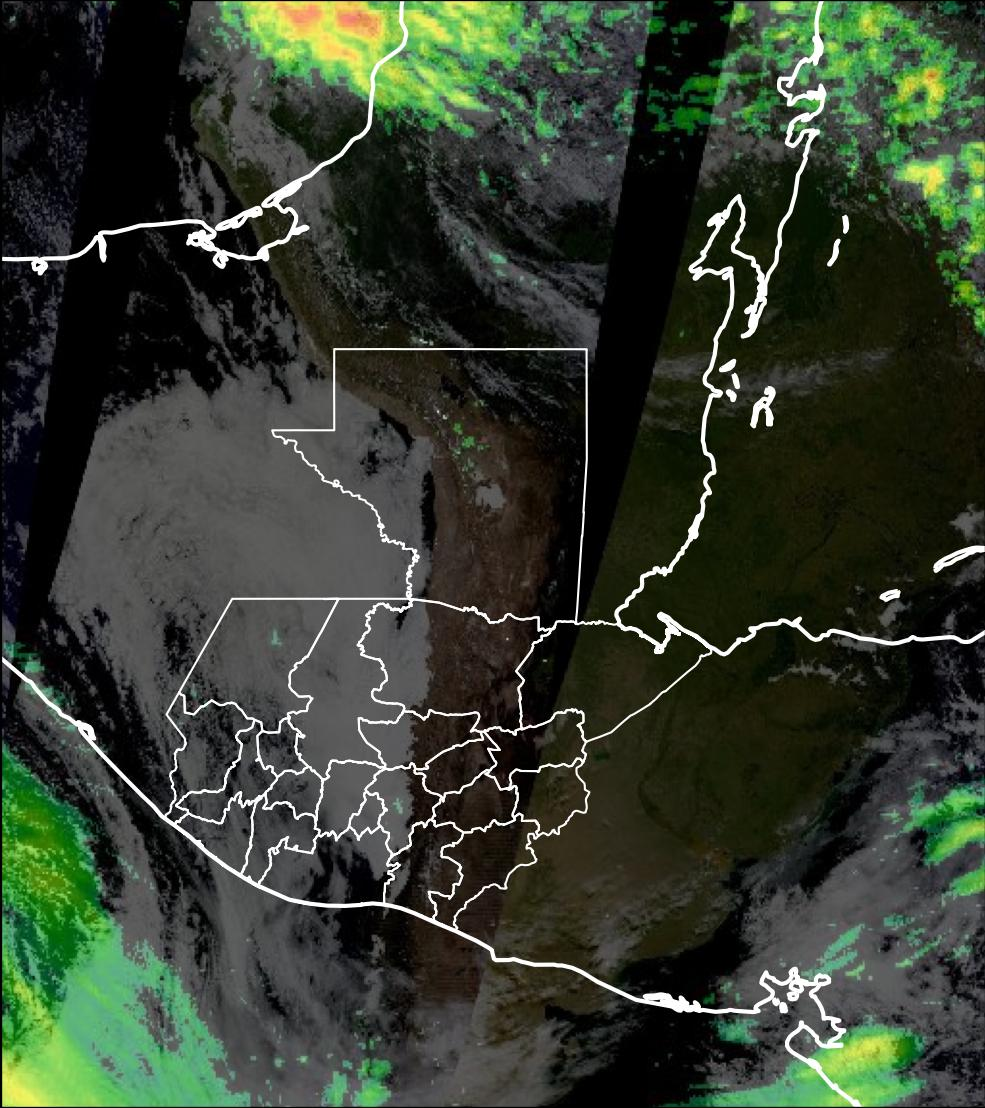precipitacion: (272, 3, 392, 67)
